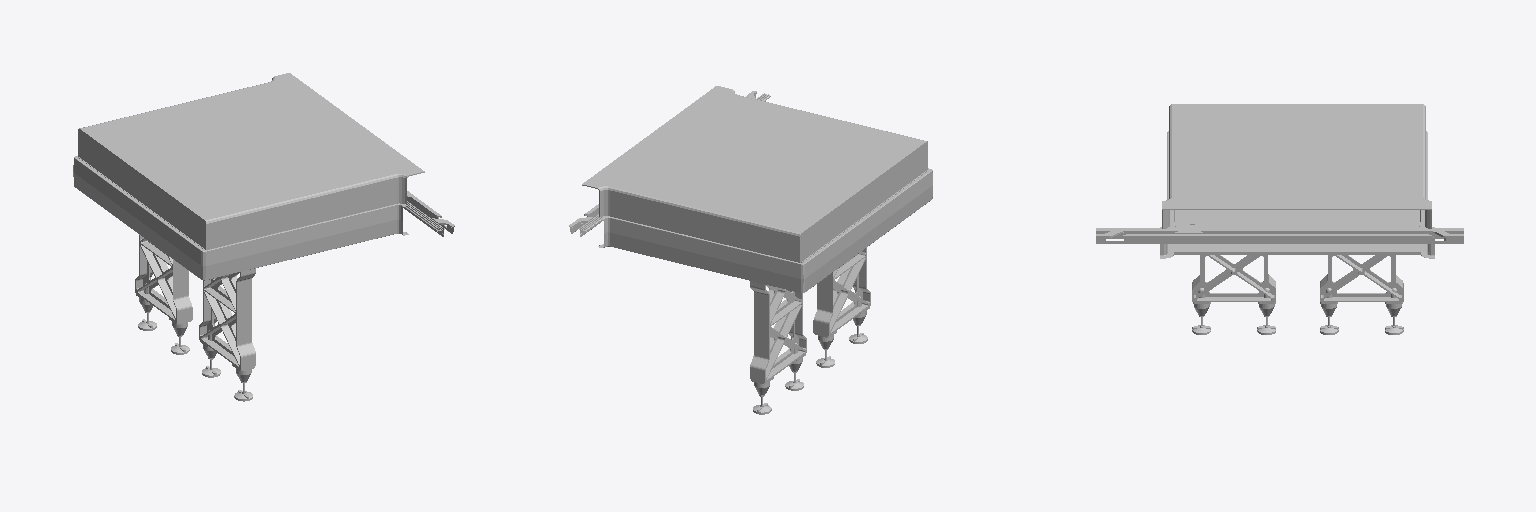
The model's file is Carrier Buffer.obj.
3 views of the same model, side by side, from view 1: azimuth 30°, elevation 25°; view 2: azimuth 150°, elevation 25°; view 3: azimuth 270°, elevation 25° (orthographic).
Parts seen in each view (by area): view 1: object1, object8, object3, object5, object2; view 2: object1, object8, object5, object3, object2; view 3: object1, object2, object11, object8, object3, object5.
Boxes of the visible parts, x1,y1,x2,y2 form: object1: [78, 73, 424, 249]; object8: [73, 156, 408, 280]; object3: [199, 268, 255, 382]; object5: [135, 235, 192, 336]; object2: [403, 191, 454, 236]; object1: [582, 86, 927, 262]; object8: [598, 168, 932, 292]; object5: [750, 281, 806, 396]; object3: [813, 248, 870, 349]; object2: [569, 91, 770, 236]; object1: [1162, 104, 1431, 228]; object2: [1096, 228, 1463, 243]; object11: [1179, 210, 1415, 227]; object8: [1160, 131, 1434, 258]; object3: [1192, 255, 1275, 316]; object5: [1320, 255, 1403, 316].
Bounding box in the file's own units: 52.44 × 45.88 × 76.15.